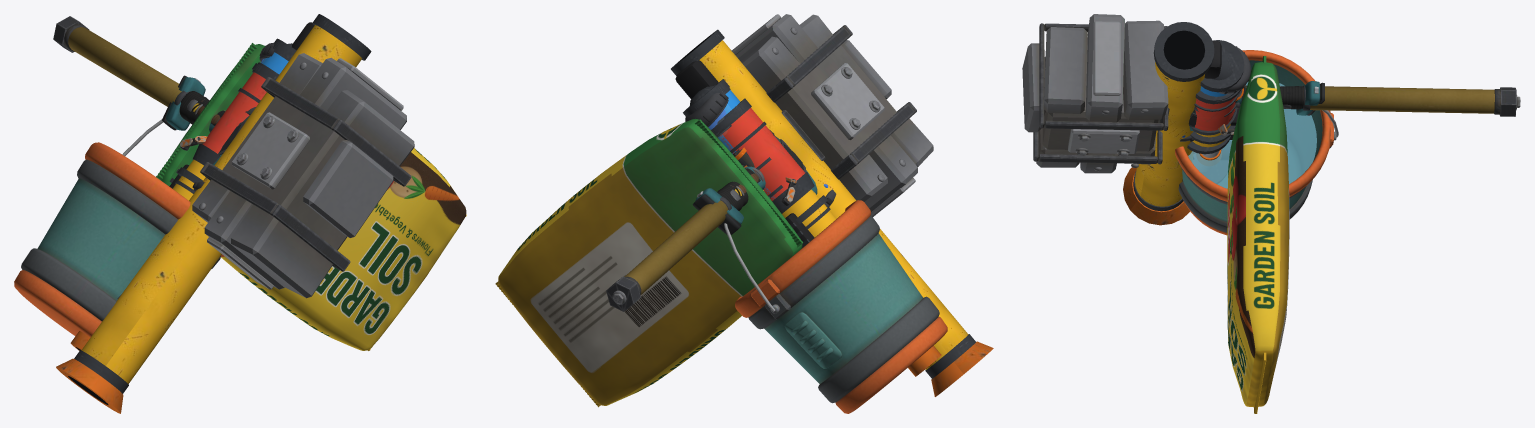
File: hand_tools.glb
The picture shows the model from 3 angles, left to right: view 1: azimuth 30°, elevation 25°; view 2: azimuth 150°, elevation 25°; view 3: azimuth 270°, elevation 25°; orthographic projection. The views are drawn at different scales.
Parts seen in each view (by area): view 1: sledgehammer, soil_bag_mesh, water_bucket_body, potato_launcher_mesh, potato_scattergun_mesh, paint_tool, potato_blaster_mesh; view 2: soil_bag_mesh, sledgehammer, water_bucket_body, potato_launcher_mesh, potato_scattergun_mesh, paint_tool, potato_blaster_mesh, paint_tool_tank; view 3: sledgehammer, soil_bag_mesh, potato_launcher_mesh, water_bucket_body, water_bucket_body_water, potato_scattergun_mesh, potato_blaster_mesh, paint_tool.
Boxes of the visible parts, x1,y1,x2,y2 form: sledgehammer: [53, 16, 414, 298]; soil_bag_mesh: [156, 43, 466, 350]; water_bucket_body: [14, 142, 224, 337]; potato_launcher_mesh: [56, 14, 371, 413]; potato_scattergun_mesh: [169, 62, 278, 188]; paint_tool: [162, 75, 255, 191]; potato_blaster_mesh: [70, 38, 296, 350]; soil_bag_mesh: [495, 118, 802, 407]; sledgehammer: [606, 14, 933, 311]; water_bucket_body: [735, 200, 947, 413]; potato_launcher_mesh: [671, 29, 993, 396]; potato_scattergun_mesh: [715, 98, 814, 247]; paint_tool: [692, 129, 836, 234]; potato_blaster_mesh: [683, 79, 941, 376]; paint_tool_tank: [685, 93, 728, 126]; sledgehammer: [1022, 14, 1520, 173]; soil_bag_mesh: [1227, 56, 1289, 413]; potato_launcher_mesh: [1123, 22, 1241, 225]; water_bucket_body: [1175, 50, 1336, 235]; water_bucket_body_water: [1188, 81, 1316, 188]; potato_scattergun_mesh: [1187, 90, 1239, 165]; potato_blaster_mesh: [1192, 40, 1290, 171]; paint_tool: [1180, 81, 1324, 141].
Size of the model in its own units: 0.9487 by 0.7547 by 0.959.
31 materials, 23 textured.
